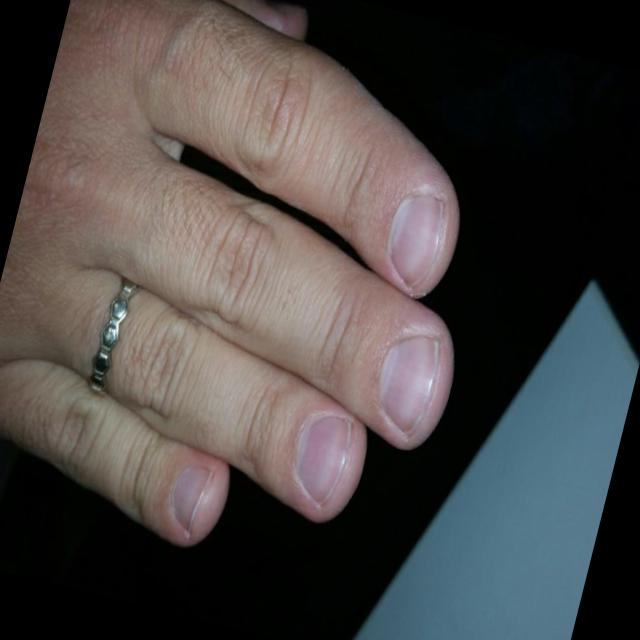Nail: (379, 335, 439, 435), (389, 194, 444, 288), (297, 413, 352, 505), (172, 467, 213, 532), (279, 4, 306, 15)
